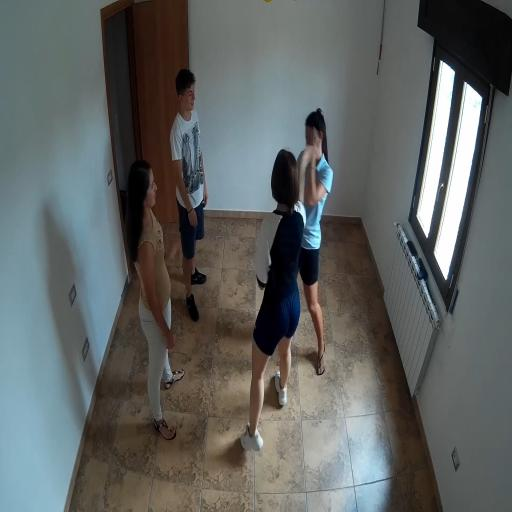violencia: (227, 84, 340, 456)
